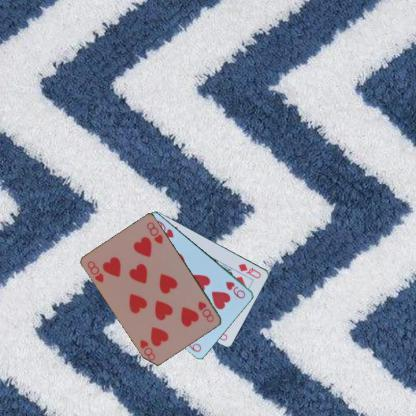8h: (85, 258, 106, 284), (196, 298, 216, 324)
9h: (223, 278, 247, 300)
Qd: (235, 260, 262, 280)
